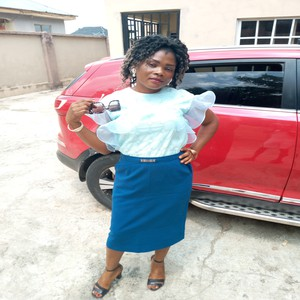Fulokoja_female_student: (112, 40, 187, 281)
